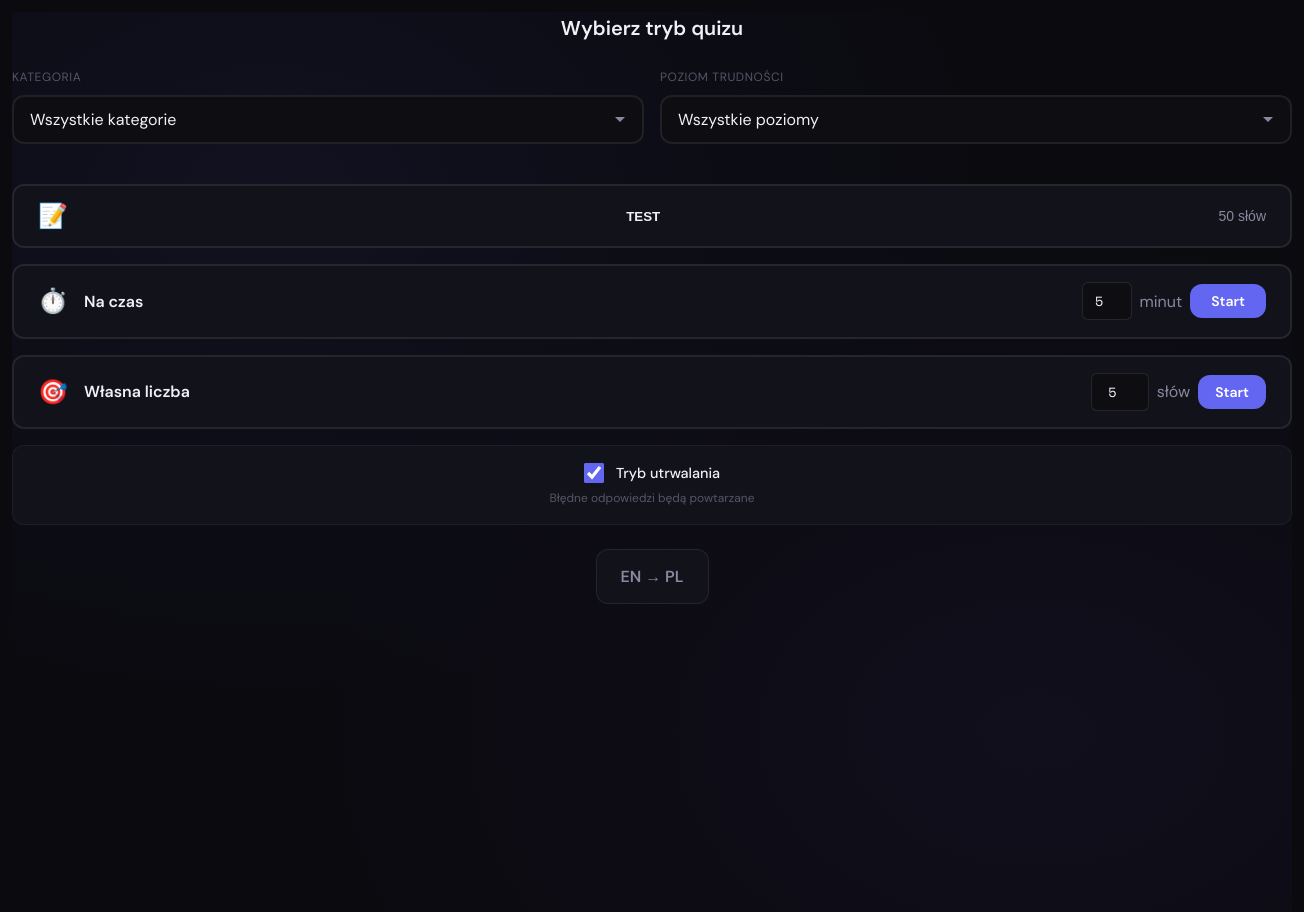
Test: QuizSetup › Validation › should show error when word limit exceeds available words
Click the button "📝 TEST 50 słów": {"x": 652, "y": 216} [12,184,1292,248]
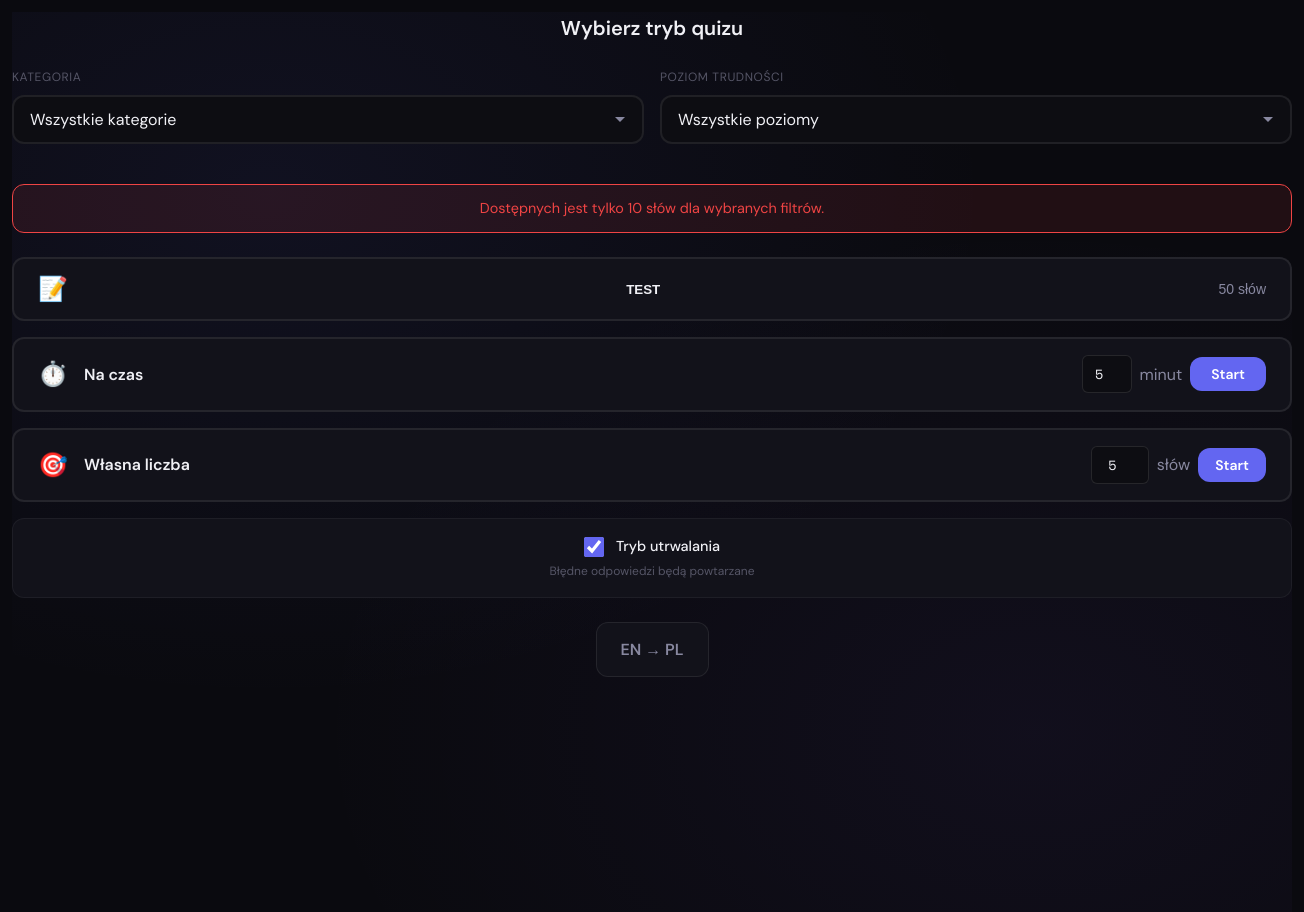
Check: the text "Dostępnych jest tylko 10 słów dla wybranych filtrów." is shown, box [12,184,1292,233]
